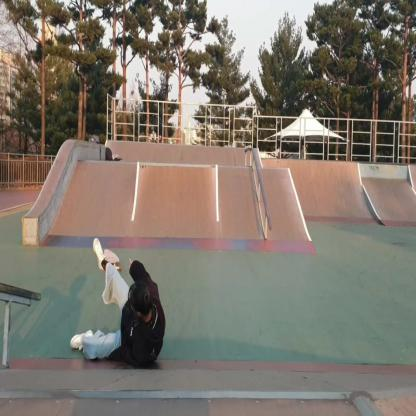Fall_Down: (68, 233, 168, 368)
